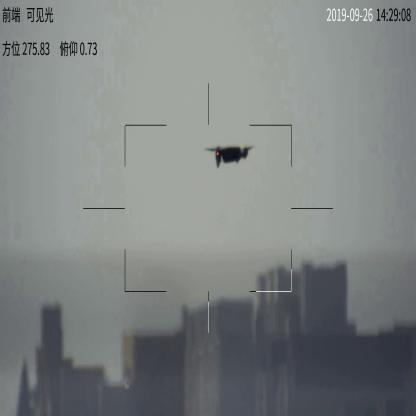uav: (198, 143, 252, 168)
